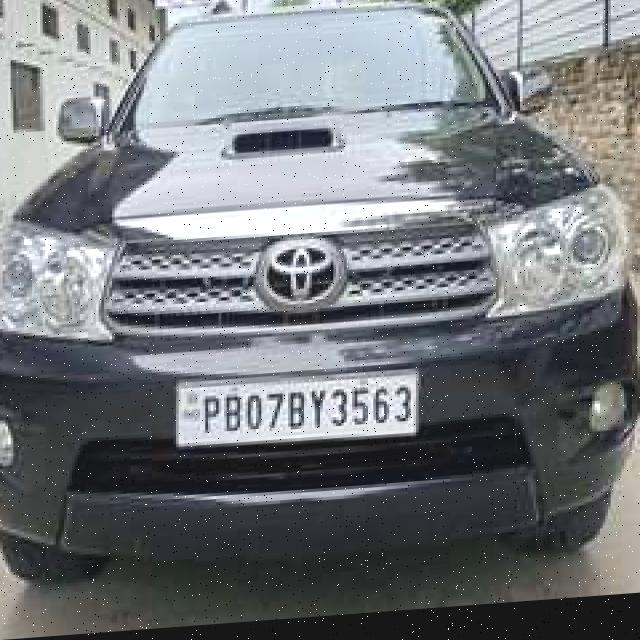plate: (172, 367, 423, 466)
